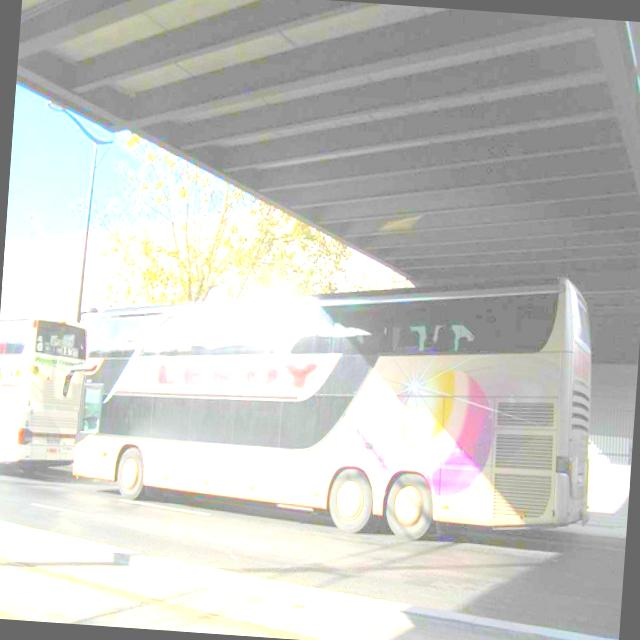Vehicle: (46, 238, 607, 558), (0, 318, 88, 476)
